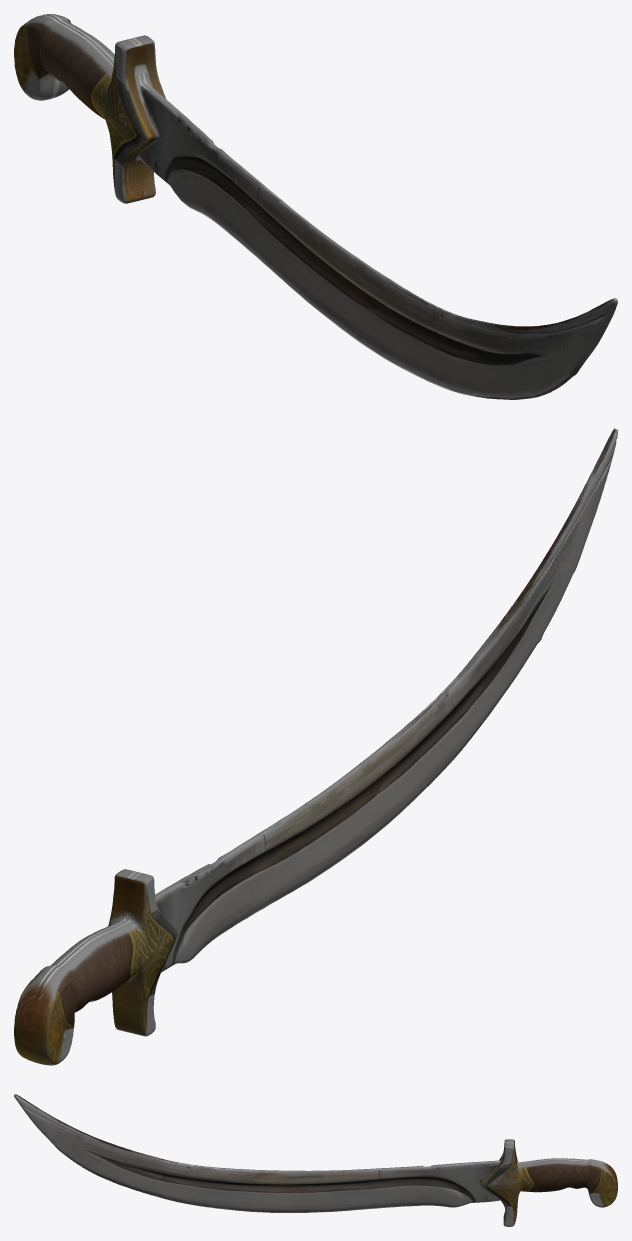
Rendered from shamshir.glb.
3 views of the same model, one above another, from view 1: azimuth 30°, elevation 25°; view 2: azimuth 150°, elevation 25°; view 3: azimuth 270°, elevation 25° (orthographic). The views are drawn at different scales.
Visible parts, largest first — view 1: tripo_node_f5a850d8-9551-4969-9342-d41d2e917e0b; view 2: tripo_node_f5a850d8-9551-4969-9342-d41d2e917e0b; view 3: tripo_node_f5a850d8-9551-4969-9342-d41d2e917e0b.
Boxes of the visible parts, x1,y1,x2,y2 form: tripo_node_f5a850d8-9551-4969-9342-d41d2e917e0b: (14, 14, 617, 399); tripo_node_f5a850d8-9551-4969-9342-d41d2e917e0b: (14, 428, 617, 1065); tripo_node_f5a850d8-9551-4969-9342-d41d2e917e0b: (14, 1094, 617, 1226).
Size of the model in its own units: 0.0457 by 0.2361 by 0.9998.
1 material, 1 textured.
